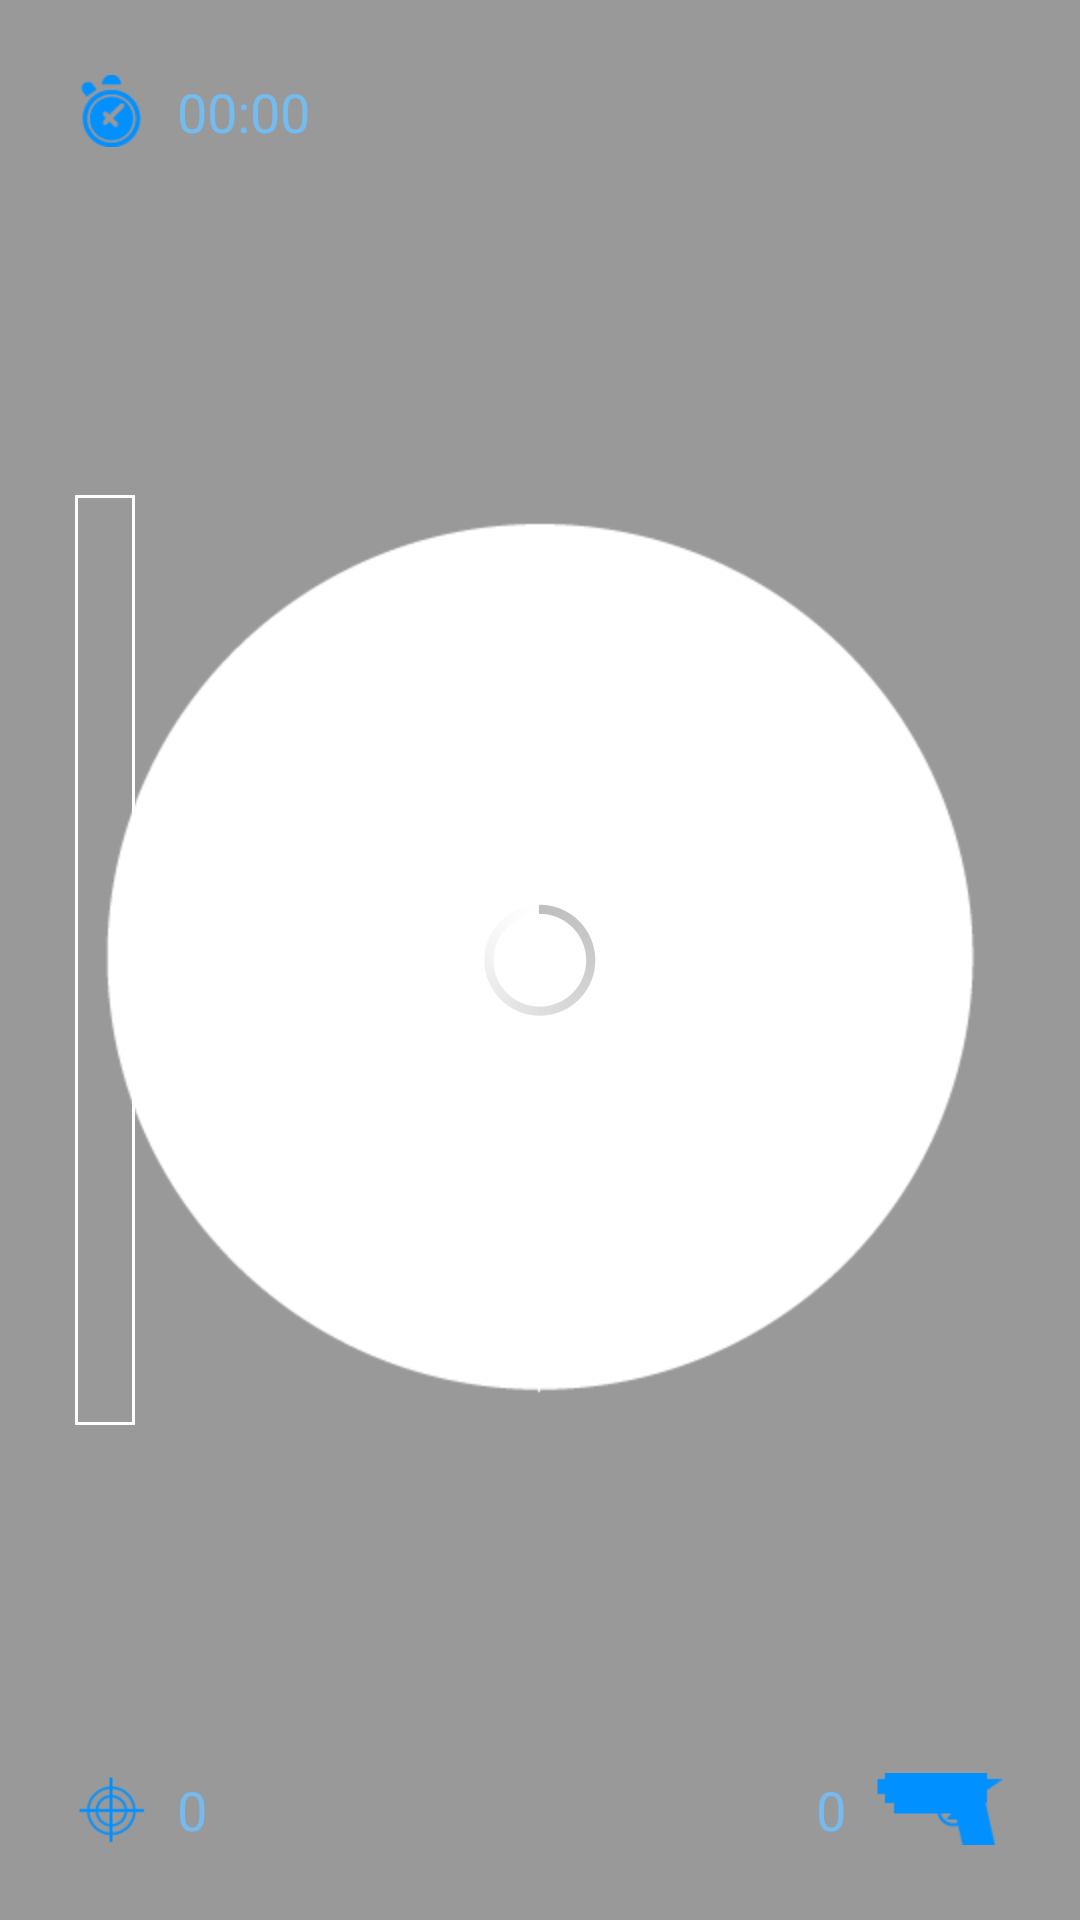

Icons on this 1080×1920 Android screen, each with its box as (x1, y1, x2, y2):
Munitions: (877, 1773, 1003, 1845)
Remaining time: (81, 75, 141, 147)
